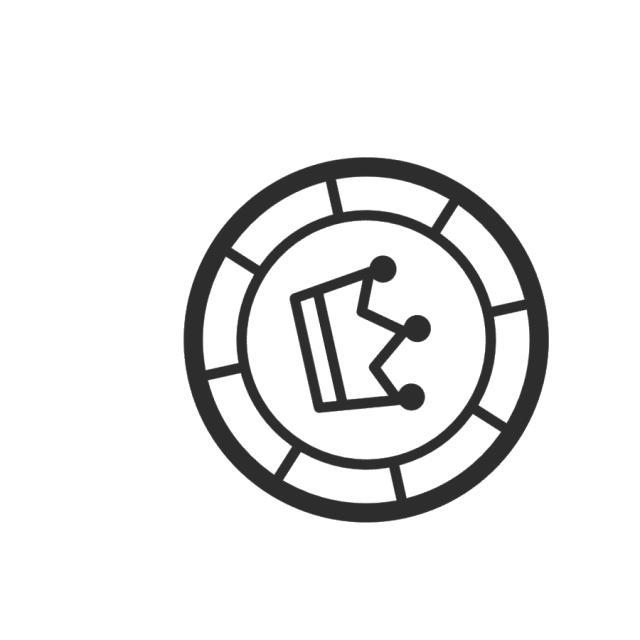coin: (176, 151, 556, 533)
